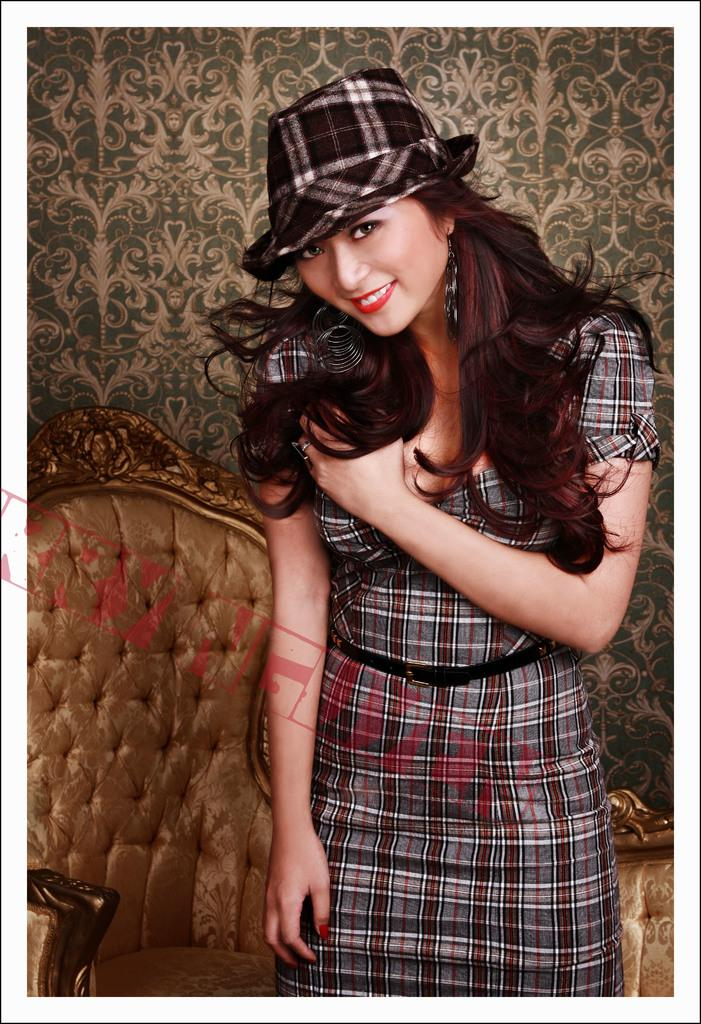Hat: (244, 66, 482, 284)
